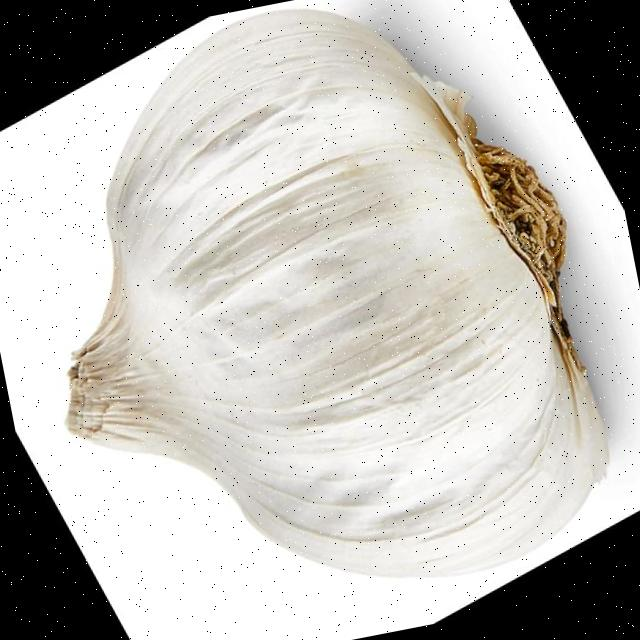garlic: (69, 9, 607, 575)
